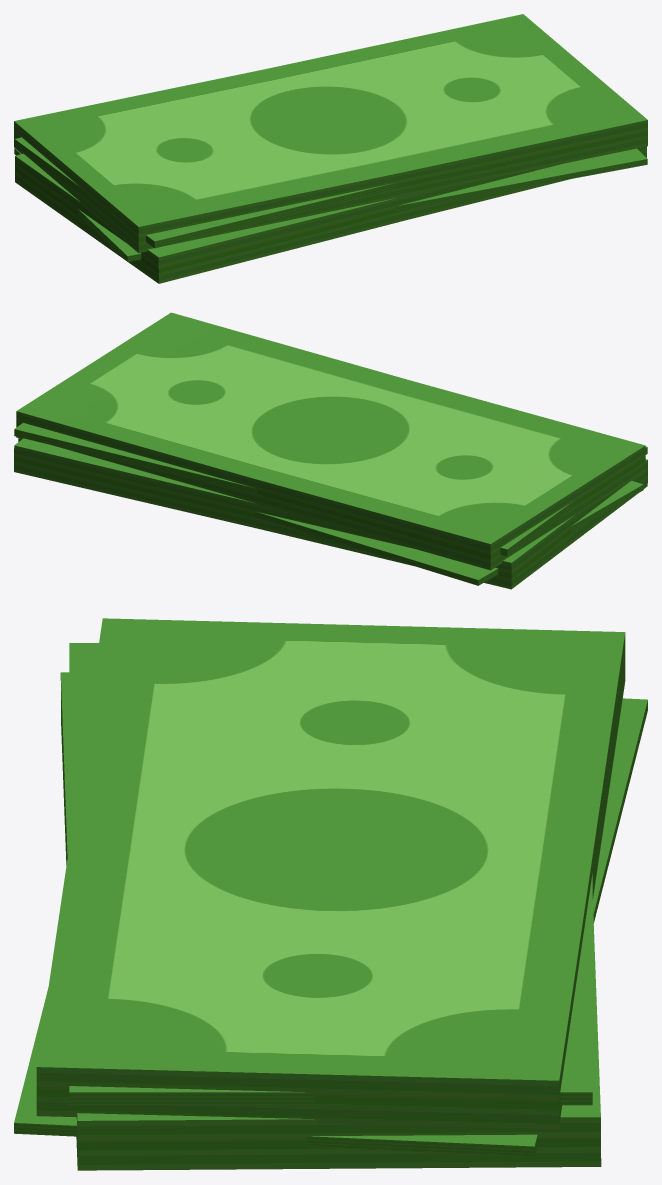
The model's file is MoneyNewModel.fbx.
The picture shows the model from 3 angles, top to bottom: view 1: azimuth 30°, elevation 25°; view 2: azimuth 150°, elevation 25°; view 3: azimuth 270°, elevation 25°; orthographic projection. The views are drawn at different scales.
Parts seen in each view (by area): view 1: MoneyNewModel; view 2: MoneyNewModel; view 3: MoneyNewModel.
Boxes of the visible parts, x1=… form: MoneyNewModel: x1=14, y1=14, x2=647, y2=283; MoneyNewModel: x1=14, y1=312, x2=647, y2=589; MoneyNewModel: x1=14, y1=618, x2=647, y2=1170.
Size of the model in its own units: 6.65 by 0.6286 by 3.79.
